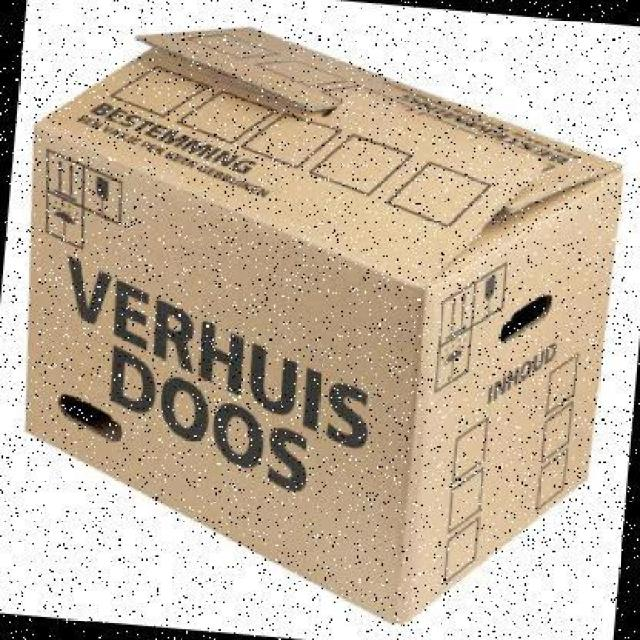box: (24, 26, 626, 626)
normal_hole: (57, 390, 123, 446), (498, 293, 553, 343)
